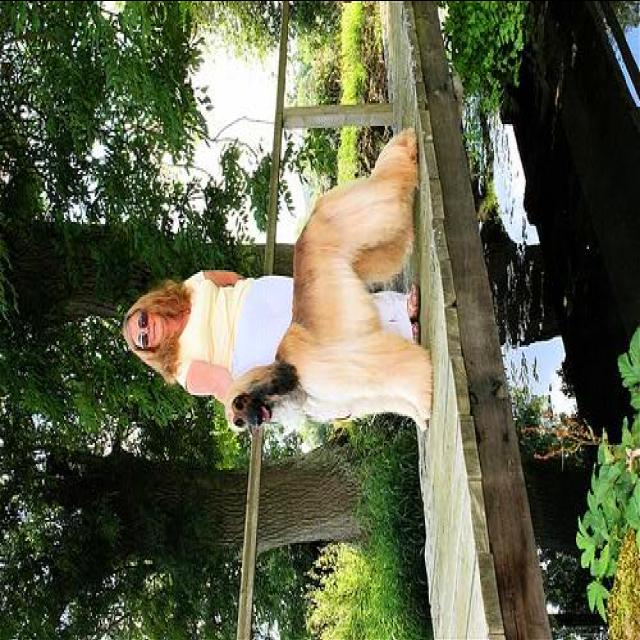afghan_hound: (226, 132, 432, 442)
